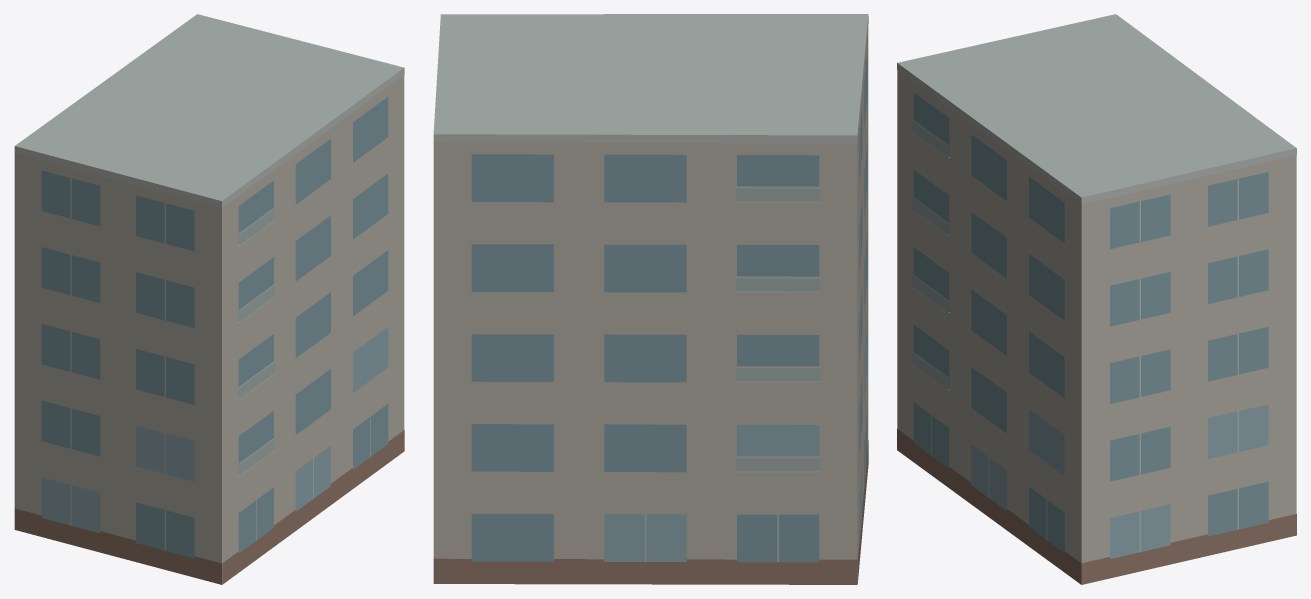
The model's file is survey-upis-32657282.glb.
The picture shows the model from 3 angles, left to right: view 1: azimuth 30°, elevation 25°; view 2: azimuth 150°, elevation 25°; view 3: azimuth 270°, elevation 25°; orthographic projection. The views are drawn at different scales.
Parts seen in each view (by area): view 1: survey-upis-32657282.tmp; view 2: survey-upis-32657282.tmp; view 3: survey-upis-32657282.tmp.
Part boxes in pixels (<box>): survey-upis-32657282.tmp: <box>14,14,404,584</box>; survey-upis-32657282.tmp: <box>433,14,868,584</box>; survey-upis-32657282.tmp: <box>897,14,1296,584</box>.
Size of the model in its own units: 13.68 by 13.45 by 12.59.
